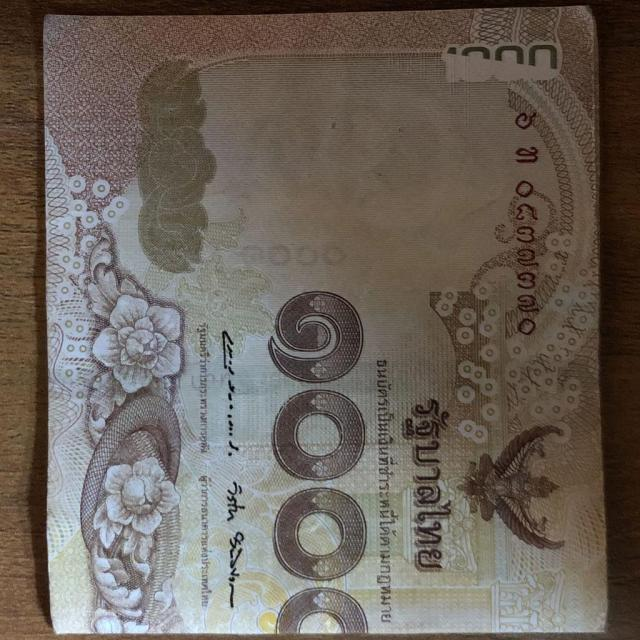THAI1000: (41, 6, 608, 638)
